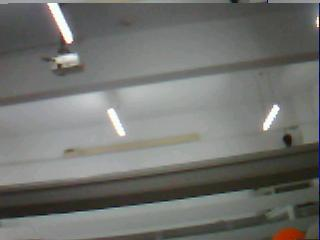oball: (271, 228, 304, 240)
